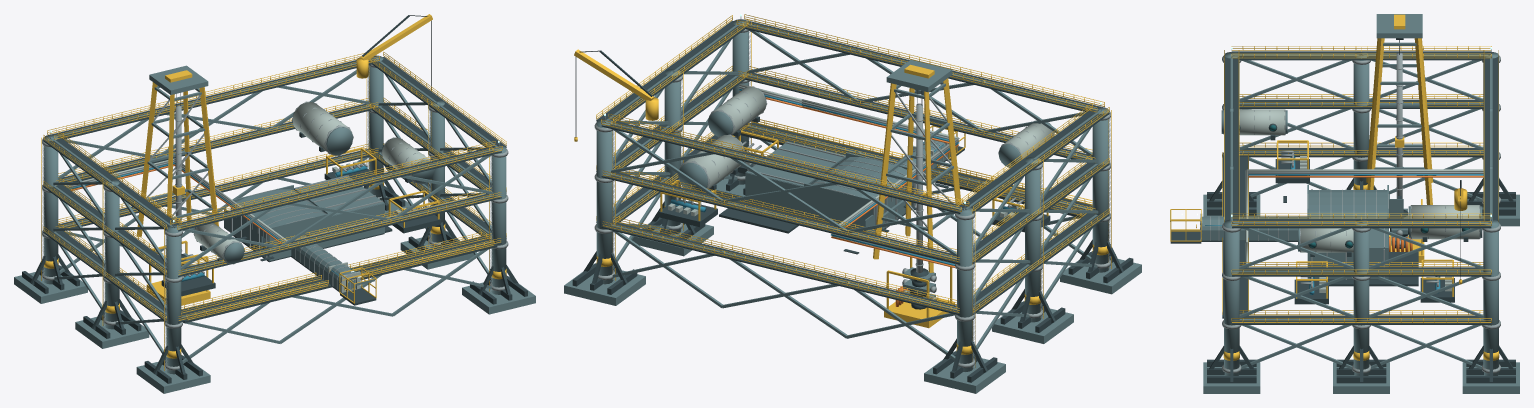
Rendered from rig-medium.glb.
3 renders of one model, left to right at view 1: azimuth 30°, elevation 25°; view 2: azimuth 150°, elevation 25°; view 3: azimuth 270°, elevation 25°, orthographic. The views are drawn at different scales.
Visible parts, largest first — view 1: exterior_Hull, exterior_Steel, exterior_Safety, interior_Hull, exterior_Metal, exterior_HullLight, interior_Metal, exterior_Blue; view 2: exterior_Hull, exterior_Steel, exterior_Safety, interior_Hull, exterior_Metal, exterior_HullLight, interior_Metal, exterior_Blue, exterior_Orange; view 3: exterior_Hull, exterior_Steel, exterior_Safety, interior_Hull, exterior_HullLight, exterior_Metal, exterior_Orange, exterior_Blue, interior_Metal.
Boxes of the visible parts, bbox=[...] form: exterior_Hull: bbox=[14, 55, 535, 393]; exterior_Steel: bbox=[22, 15, 527, 383]; exterior_Safety: bbox=[41, 14, 506, 370]; interior_Hull: bbox=[224, 175, 384, 291]; exterior_Metal: bbox=[42, 55, 508, 370]; exterior_HullLight: bbox=[64, 102, 485, 275]; interior_Metal: bbox=[230, 175, 383, 292]; exterior_Blue: bbox=[68, 162, 367, 281]; exterior_Hull: bbox=[564, 19, 1141, 393]; exterior_Steel: bbox=[572, 20, 1133, 382]; exterior_Safety: bbox=[574, 14, 1111, 367]; interior_Hull: bbox=[745, 139, 947, 234]; exterior_Metal: bbox=[594, 16, 1110, 368]; exterior_HullLight: bbox=[668, 84, 1053, 225]; interior_Metal: bbox=[747, 141, 947, 232]; exterior_Blue: bbox=[670, 89, 1019, 265]; exterior_Orange: bbox=[739, 91, 958, 306]; exterior_Hull: bbox=[1170, 14, 1519, 393]; exterior_Steel: bbox=[1170, 38, 1515, 383]; exterior_Safety: bbox=[1170, 14, 1499, 360]; interior_Hull: bbox=[1201, 185, 1403, 279]; exterior_HullLight: bbox=[1239, 109, 1483, 292]; exterior_Metal: bbox=[1222, 49, 1500, 373]; exterior_Orange: bbox=[1246, 176, 1483, 278]; exterior_Blue: bbox=[1248, 155, 1483, 294]; interior_Metal: bbox=[1210, 189, 1388, 279].
Bounding box in the file's own units: 125 × 68.7 × 91.67.
